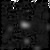node: (19, 21, 32, 30), (23, 39, 31, 46), (6, 26, 14, 33)
